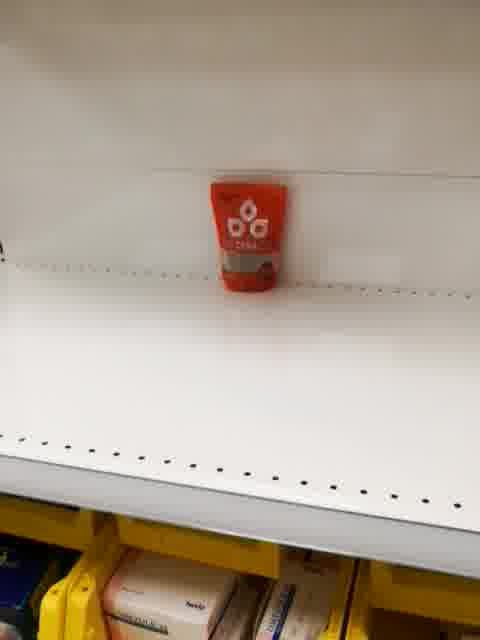whitechia: (208, 180, 291, 298)
